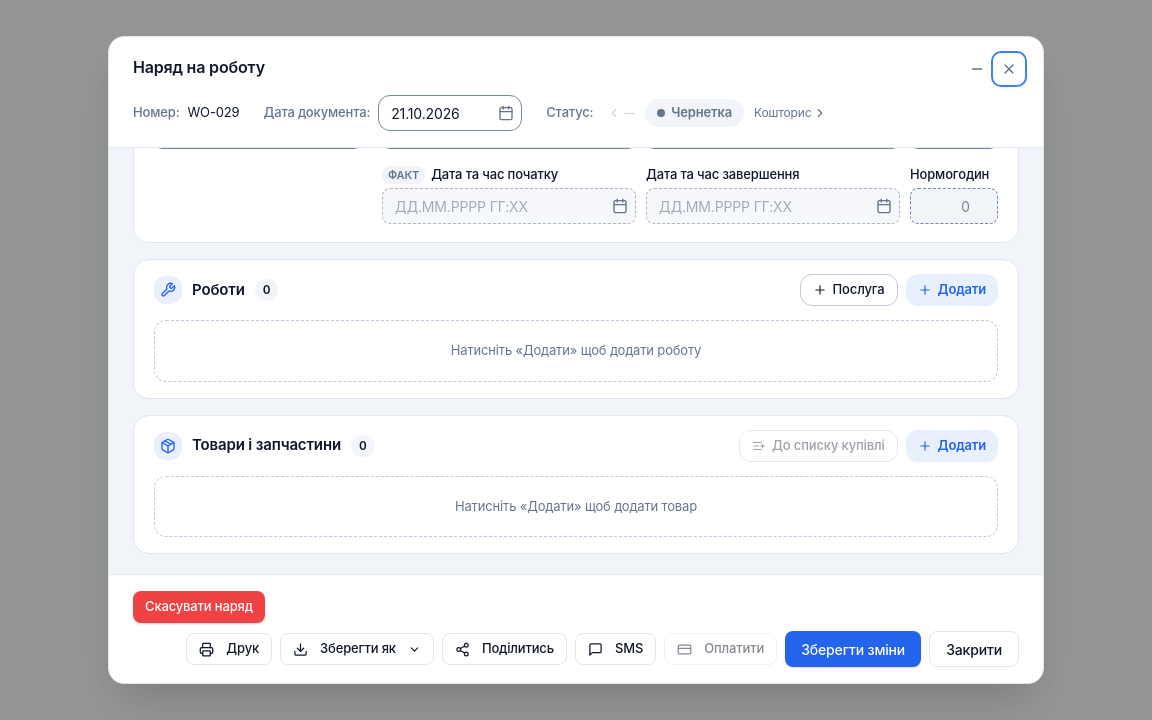
Test case: CreateWorkOrderModal — склад рядка товару (BR-WO-029) › той самий товар, обраний повторно вікном вибору, — не зміна товару: склад лишається (Bug #936)
(page scrolled)
Expected: the text "Натисніть «Додати» щоб додати товар" is shown, [154,476,998,537]
Click the button "Додати" in the row of "Товари і запчастини" at x=952, y=446, box [906,430,998,462]
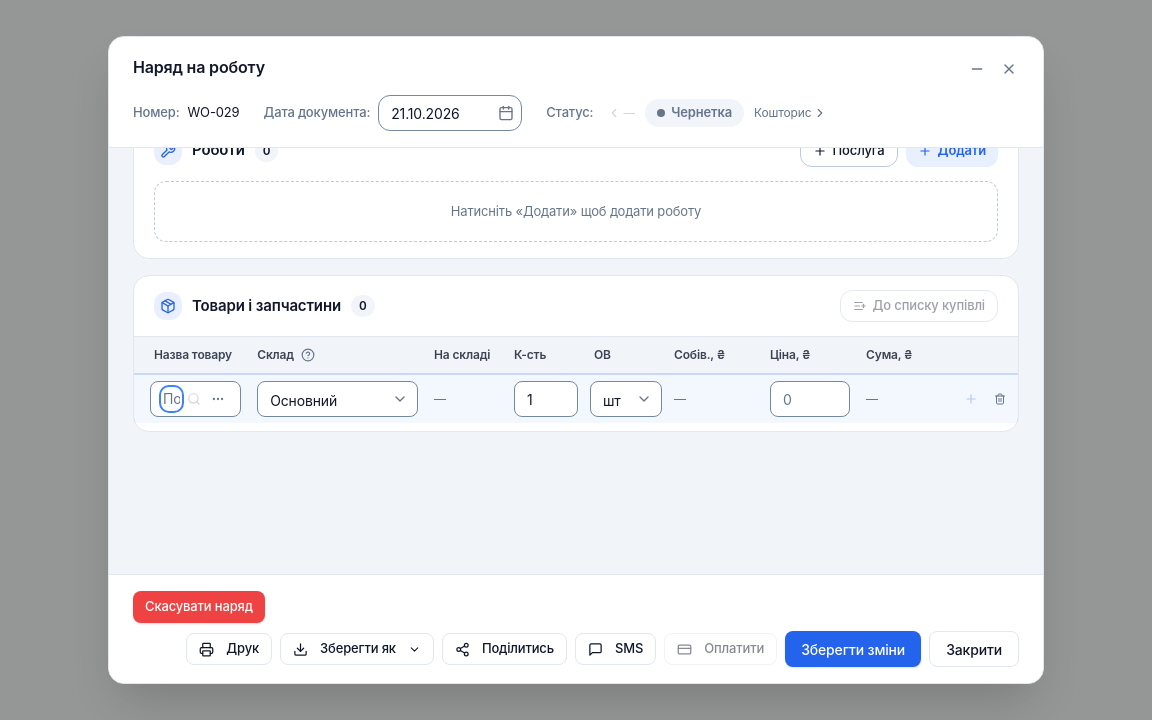
Type "Фільтр л" into the dropdown labelled "товар" at x=172, y=399, box [163,389,180,409]
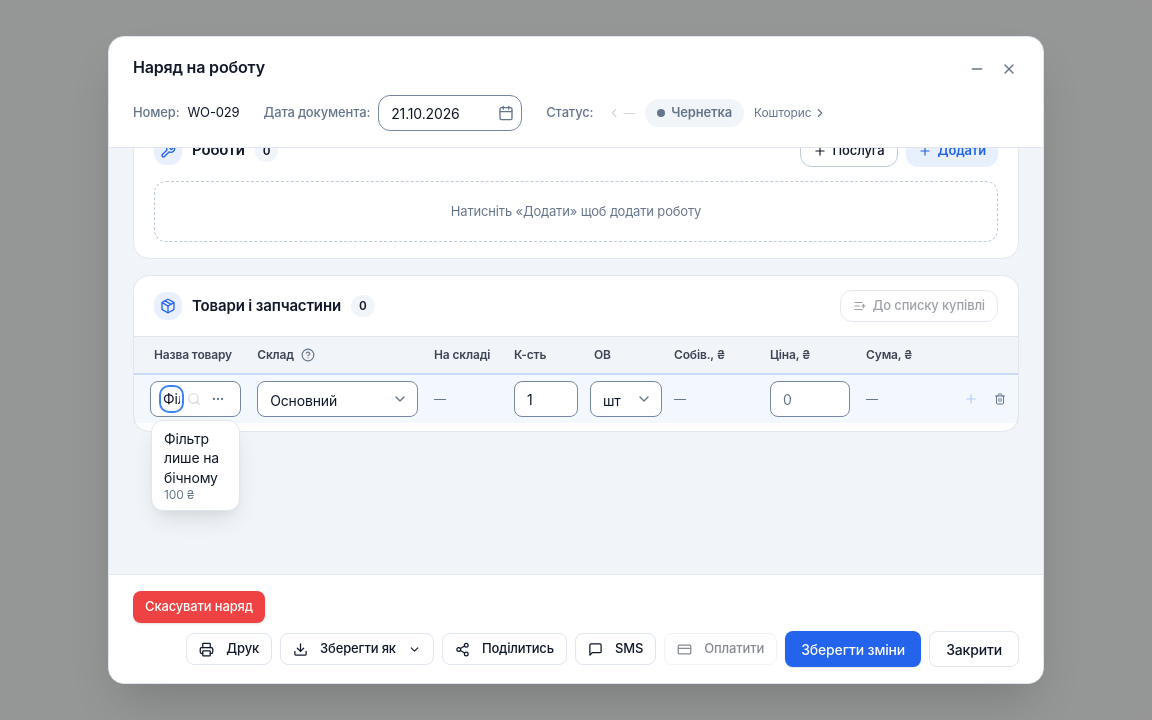
Click the option "Фільтр лише на бічному 100 ₴" at x=192, y=466, box [164,430,219,502]
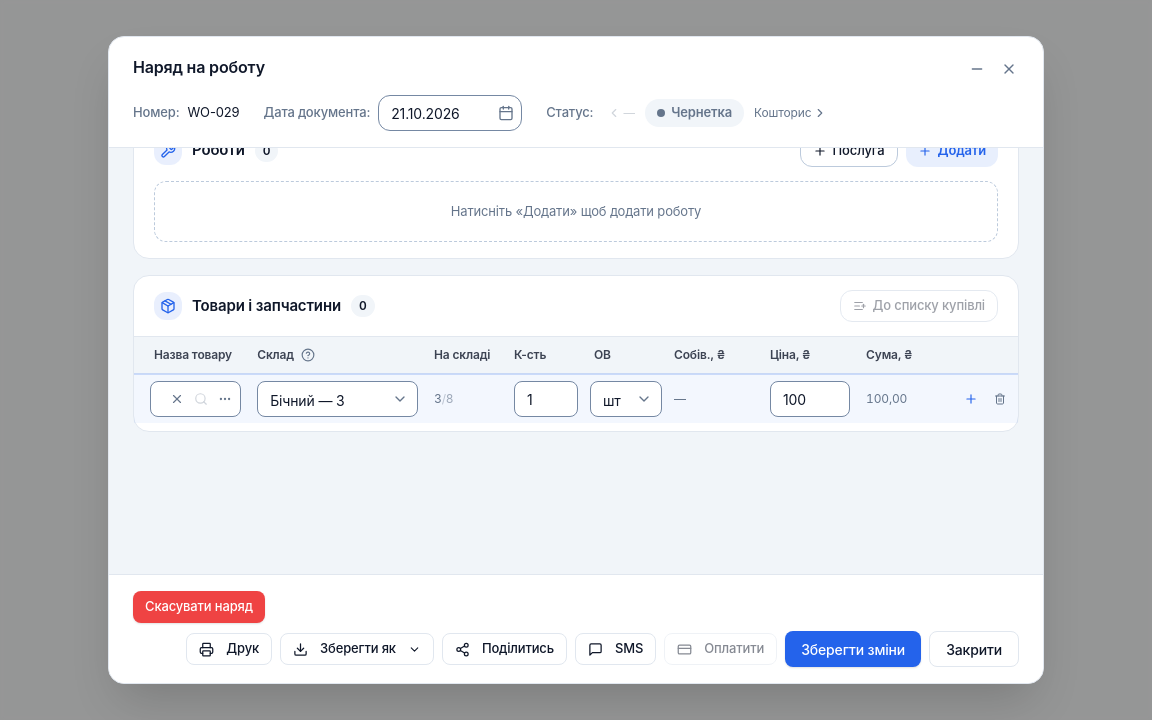
Result: the dropdown named "Склад" shows "Бічний — 3"
Select "Третій — 0" in the dropdown named "Склад" at x=338, y=399, box [257,381,418,417]
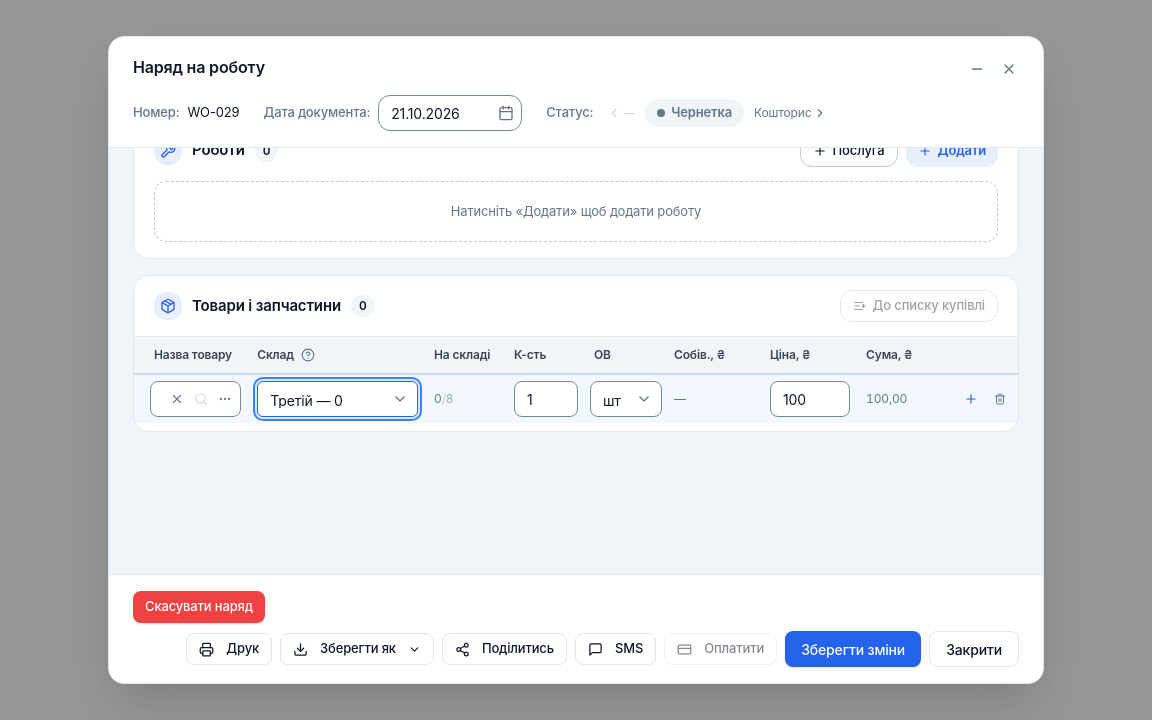
Click the button named "Обрати" at x=225, y=399, box [215,389,235,409]
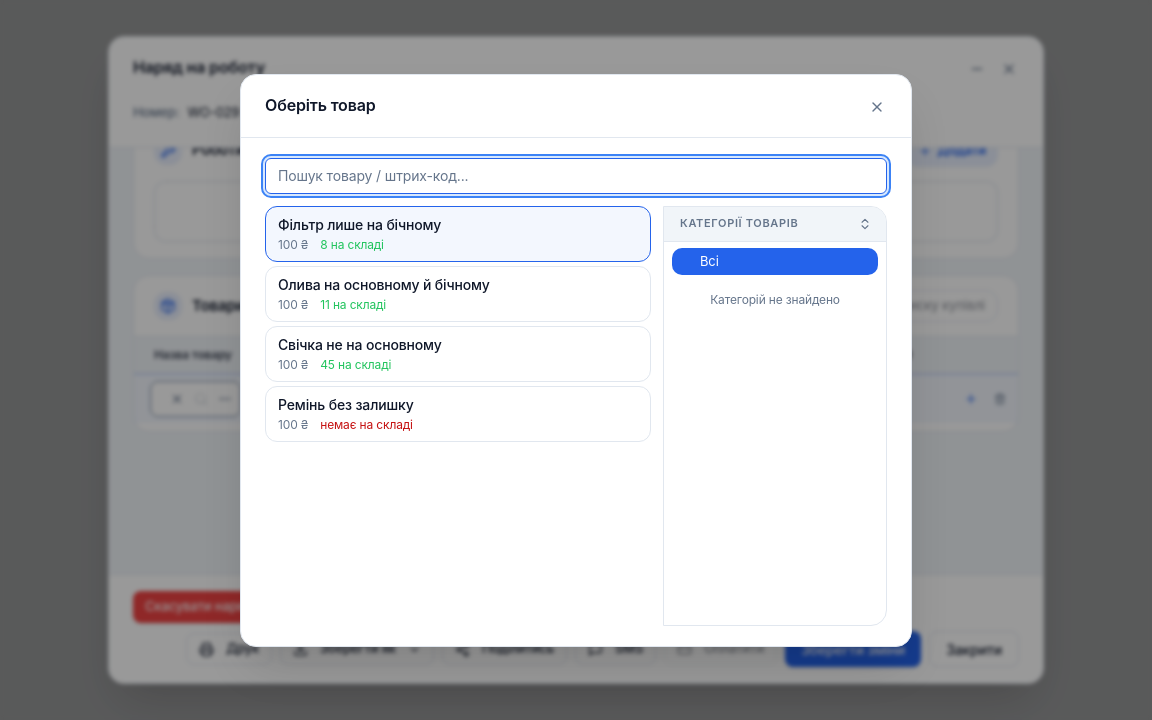
Click the button "Фільтр лише на бічному 100 ₴ 8 на складі" at x=360, y=224, box [265,206,651,262]
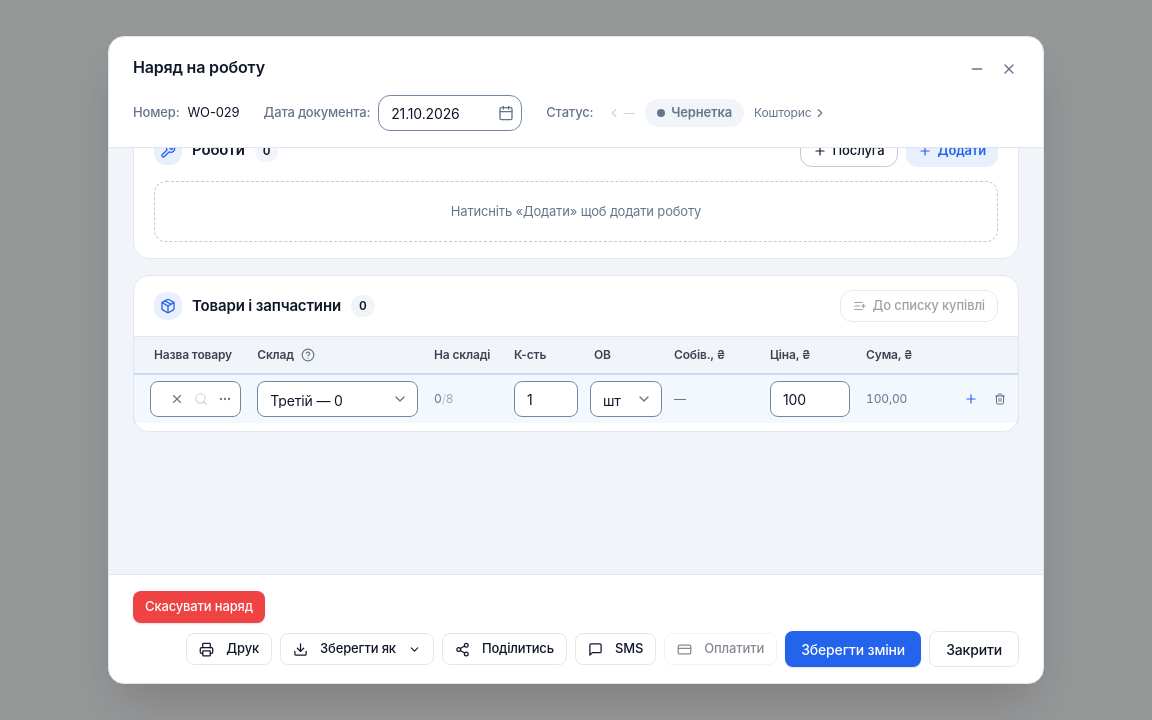
Result: the heading "Оберіть товар" is gone
